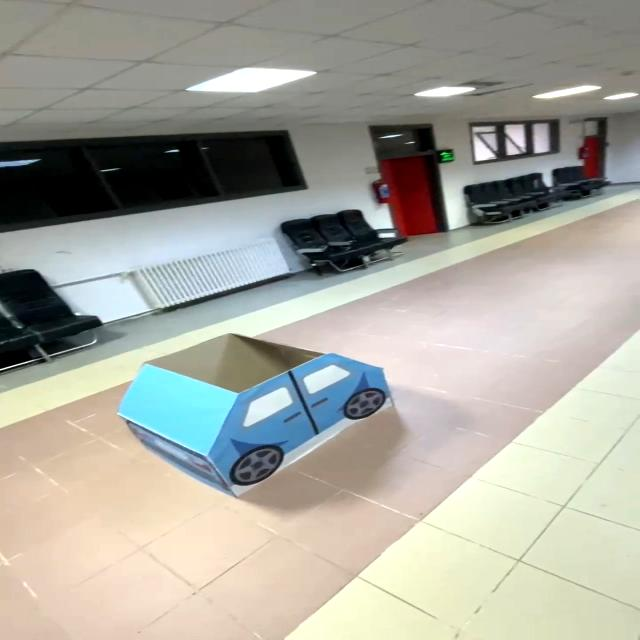blue_car: (107, 322, 418, 512)
